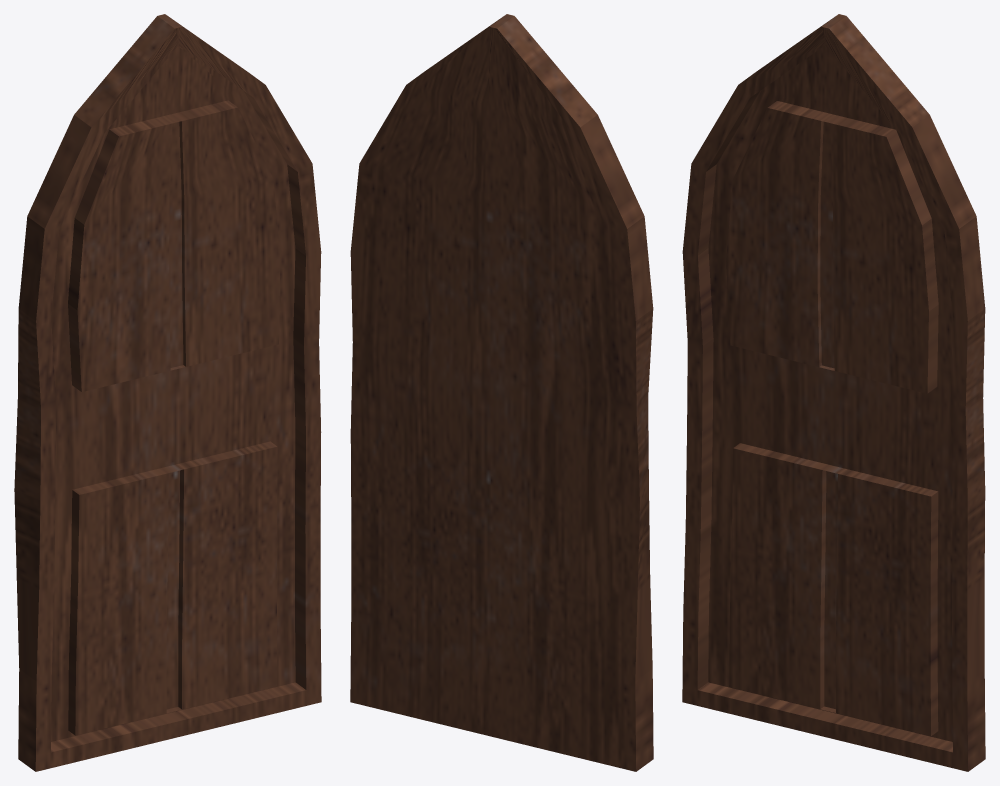
Rendered from Puerta_Iglesia.obj.
3 views of the same model, side by side, from view 1: azimuth 30°, elevation 25°; view 2: azimuth 150°, elevation 25°; view 3: azimuth 330°, elevation 25° (orthographic).
Visible parts, largest first — view 1: Puerta_Iglesia.001; view 2: Puerta_Iglesia.001; view 3: Puerta_Iglesia.001.
Boxes of the visible parts, x1,y1,x2,y2 form: Puerta_Iglesia.001: (14,14,321,771); Puerta_Iglesia.001: (350,14,653,771); Puerta_Iglesia.001: (682,14,985,771).
Size of the model in its own units: 1.38 by 3.23 by 0.1437.
1 material, 1 textured.
